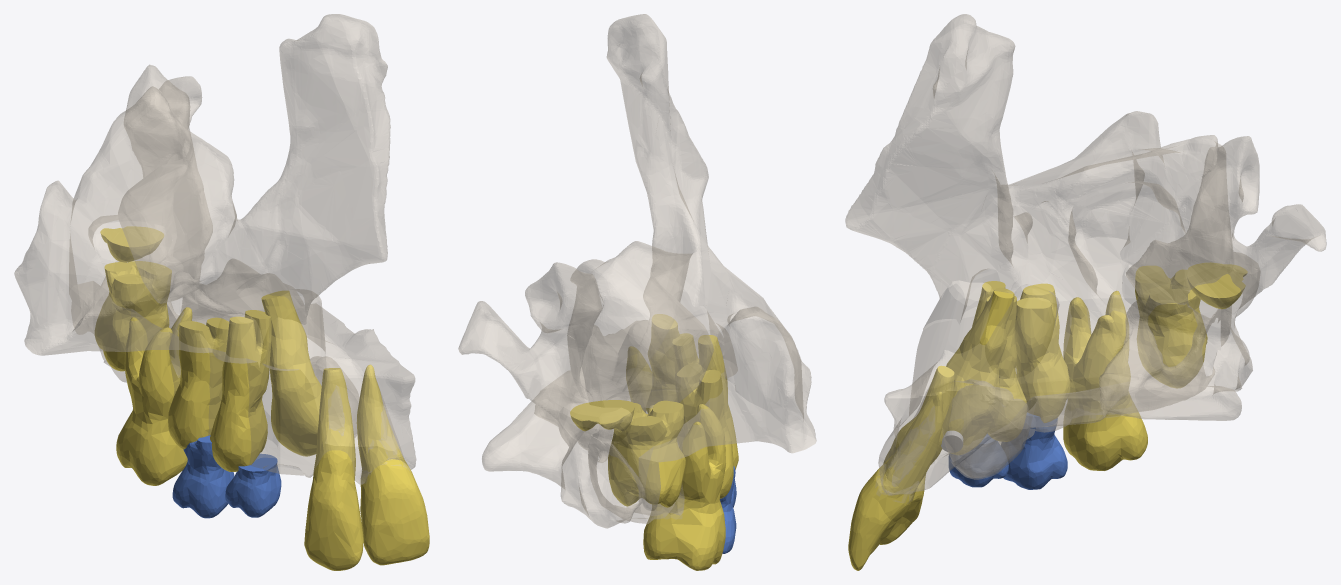
File: ortho-later.glb
The picture shows the model from 3 angles, left to right: view 1: azimuth 30°, elevation 25°; view 2: azimuth 150°, elevation 25°; view 3: azimuth 270°, elevation 25°; orthographic projection. The views are drawn at different scales.
Parts seen in each view (by area): view 1: bone, teeth, canine, baby-teeth; view 2: bone, teeth, canine, baby-teeth; view 3: bone, teeth, canine, baby-teeth.
Boxes of the visible parts, box(x1,y1,x2,y2) form: bone: box(14, 14, 416, 484); teeth: box(94, 226, 429, 570); canine: box(261, 290, 321, 456); baby-teeth: box(172, 435, 281, 518); bone: box(458, 14, 816, 528); teeth: box(570, 333, 738, 570); canine: box(646, 314, 679, 412); baby-teeth: box(720, 466, 736, 553); bone: box(845, 14, 1326, 503); teeth: box(848, 262, 1247, 570); canine: box(946, 287, 1014, 454); baby-teeth: box(948, 413, 1067, 489).
Bounding box in the file's own units: 0.0451 × 0.0795 × 0.0637.
